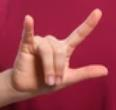back: (15, 6, 110, 93)
